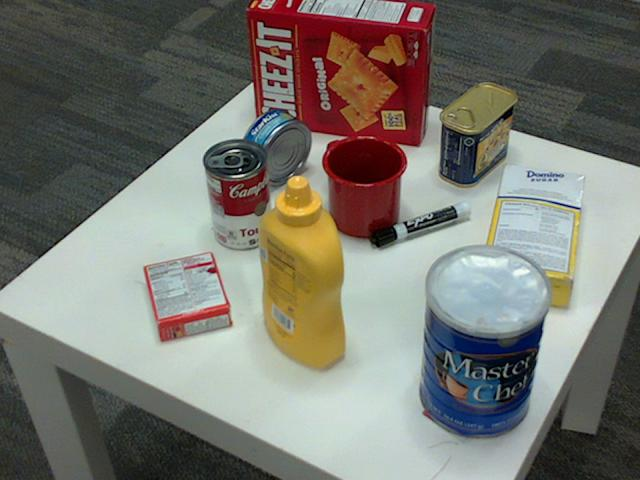cracker_box: (248, 0, 434, 145)
gelatin_box: (139, 250, 228, 341)
large_marker: (371, 205, 471, 246)
master_chef_can: (421, 247, 554, 441)
mug: (320, 134, 406, 237)
mustard_bottle: (257, 177, 344, 368)
potted_meat_can: (437, 84, 515, 188)
sugar_box: (477, 164, 584, 310)
tomato_soup_can: (203, 139, 272, 251)
tuna_fish_can: (238, 108, 310, 185)
